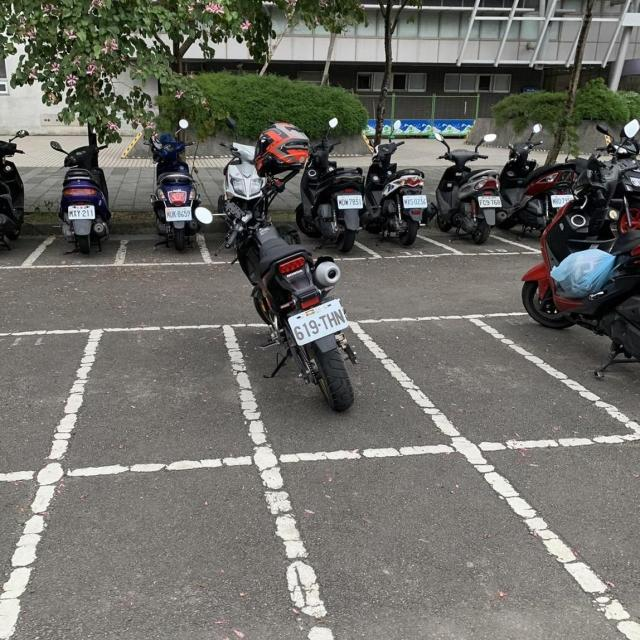W: (285, 298, 351, 346), (398, 190, 431, 211), (160, 204, 196, 223), (64, 202, 98, 222), (333, 192, 367, 211), (474, 191, 505, 210)
